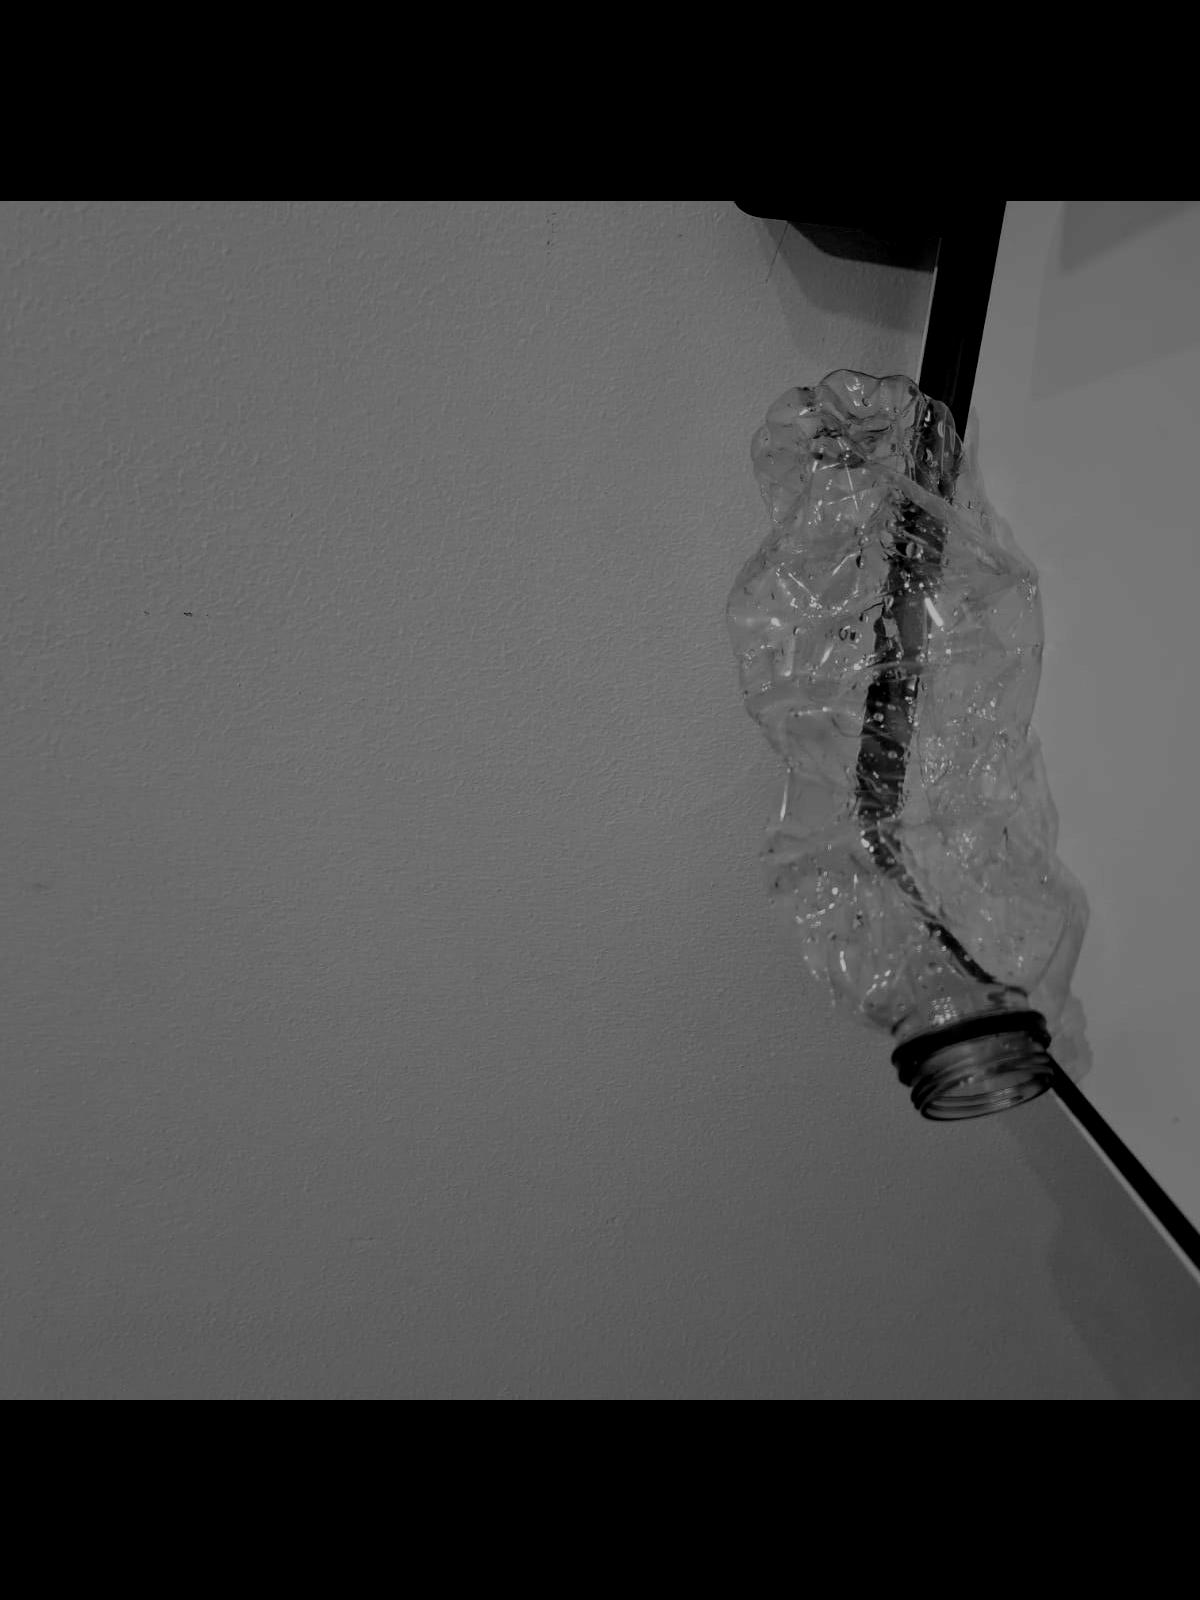bottle: (730, 328, 1058, 1167)
